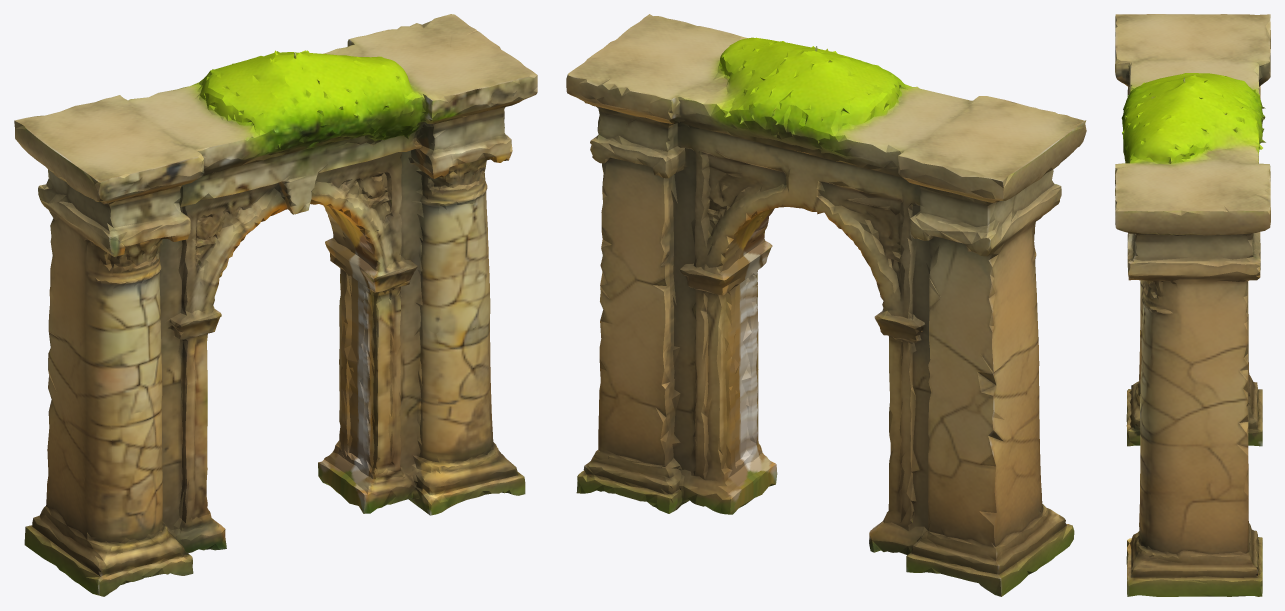
The model's file is temple_entrance_gate_v001.glb.
3 views of the same model, side by side, from view 1: azimuth 30°, elevation 25°; view 2: azimuth 150°, elevation 25°; view 3: azimuth 270°, elevation 25° (orthographic). The views are drawn at different scales.
Visible parts, largest first — view 1: Temple_Entrance_Gate; view 2: Temple_Entrance_Gate; view 3: Temple_Entrance_Gate.
Boxes of the visible parts, x1=… form: Temple_Entrance_Gate: x1=14, y1=14, x2=537, y2=596; Temple_Entrance_Gate: x1=566, y1=14, x2=1086, y2=596; Temple_Entrance_Gate: x1=1115, y1=14, x2=1270, y2=596.
Bounding box in the file's own units: 7.49 × 7.6 × 2.5.
1 material, 1 textured.
